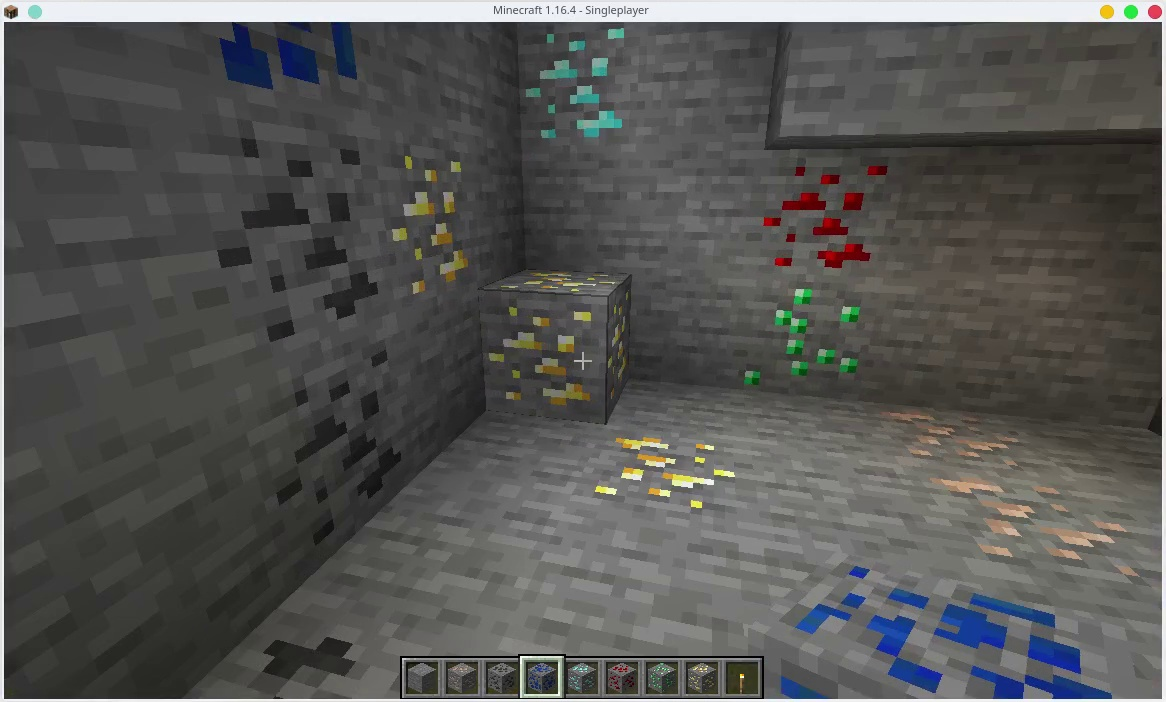gold: (477, 268, 631, 424), (603, 429, 739, 529), (382, 149, 470, 299), (685, 658, 717, 695)
